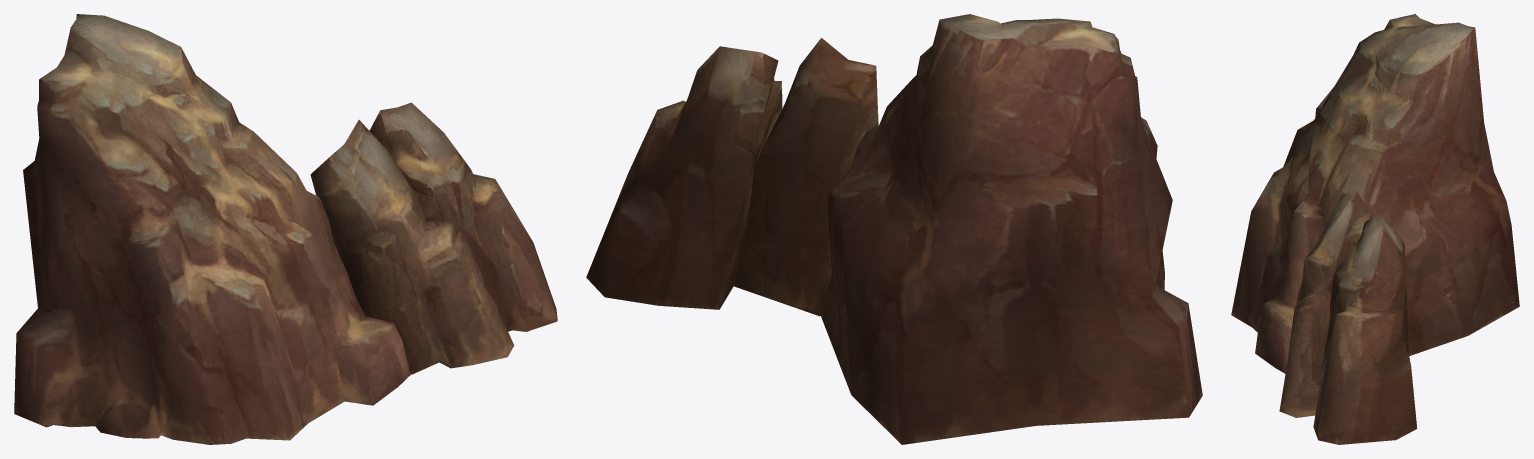
Rendered from Stone_5.FBX.
3 views of the same model, side by side, from view 1: azimuth 30°, elevation 25°; view 2: azimuth 150°, elevation 25°; view 3: azimuth 270°, elevation 25° (orthographic). The views are drawn at different scales.
Visible parts, largest first — view 1: Stone_5; view 2: Stone_5; view 3: Stone_5.
Part boxes in pixels (x1,y1,x2,y2): Stone_5: (14, 14, 557, 444); Stone_5: (586, 14, 1202, 444); Stone_5: (1231, 14, 1519, 444).
Size of the model in its own units: 731 by 449 by 444.
